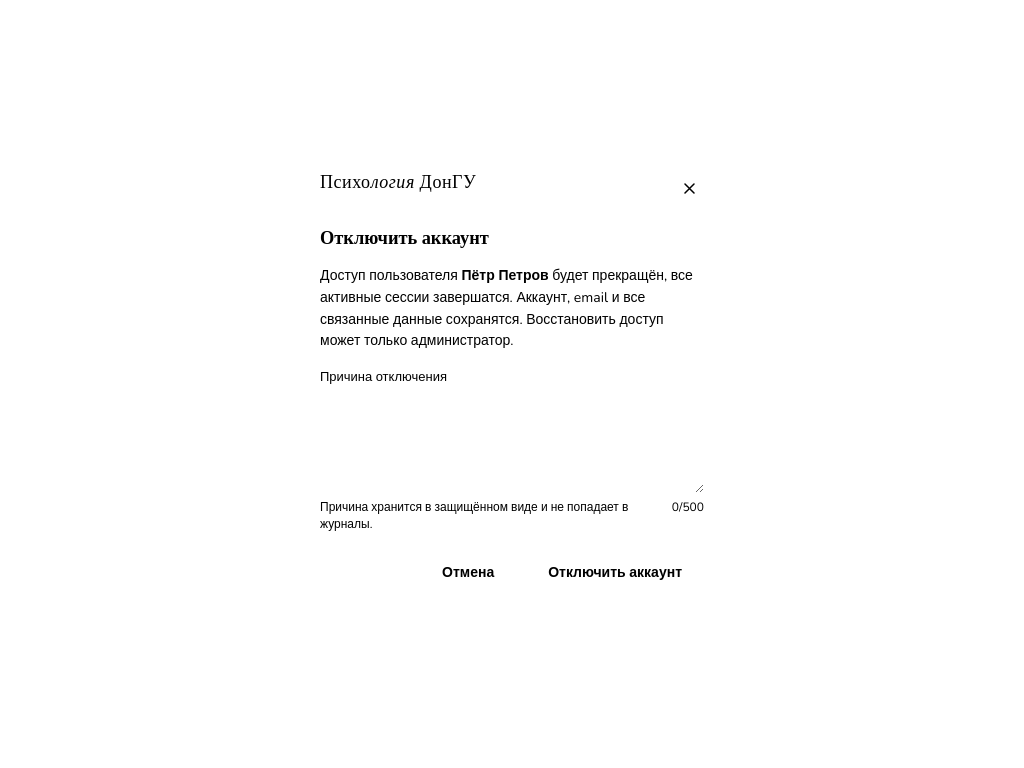
Test case: deactivate: server error is shown and dialog stays open
The image size is (1024, 768).
Type "Причина" into the text box labelled "Причина отключения" at (512, 443), box top-left (320, 392), bottom-right (704, 493)
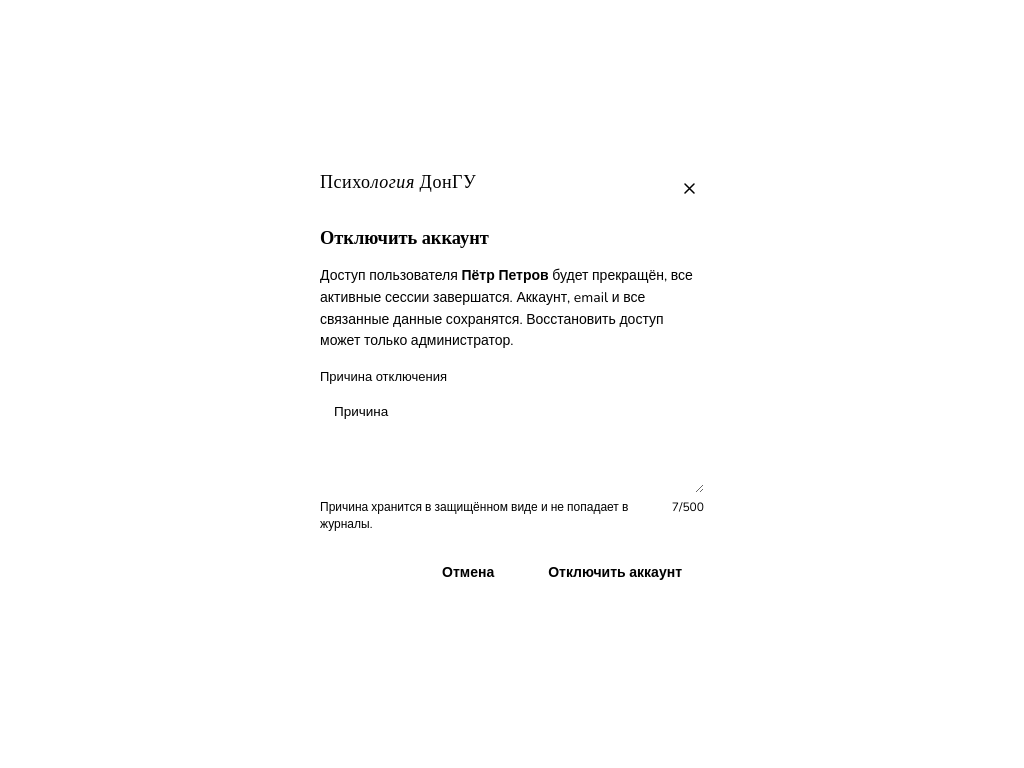
Click the button "Отключить аккаунт" at (615, 573), box top-left (526, 553), bottom-right (704, 593)
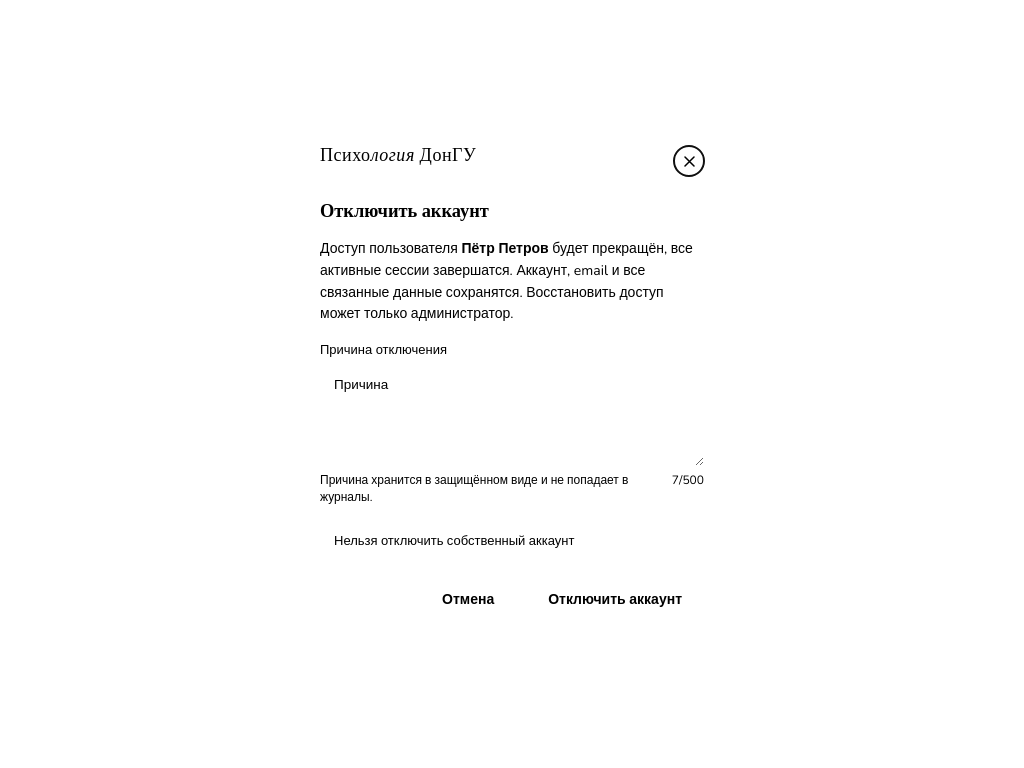
Now the text "Нельзя отключить собственный аккаунт" is shown, box top-left (334, 532), bottom-right (574, 550)
